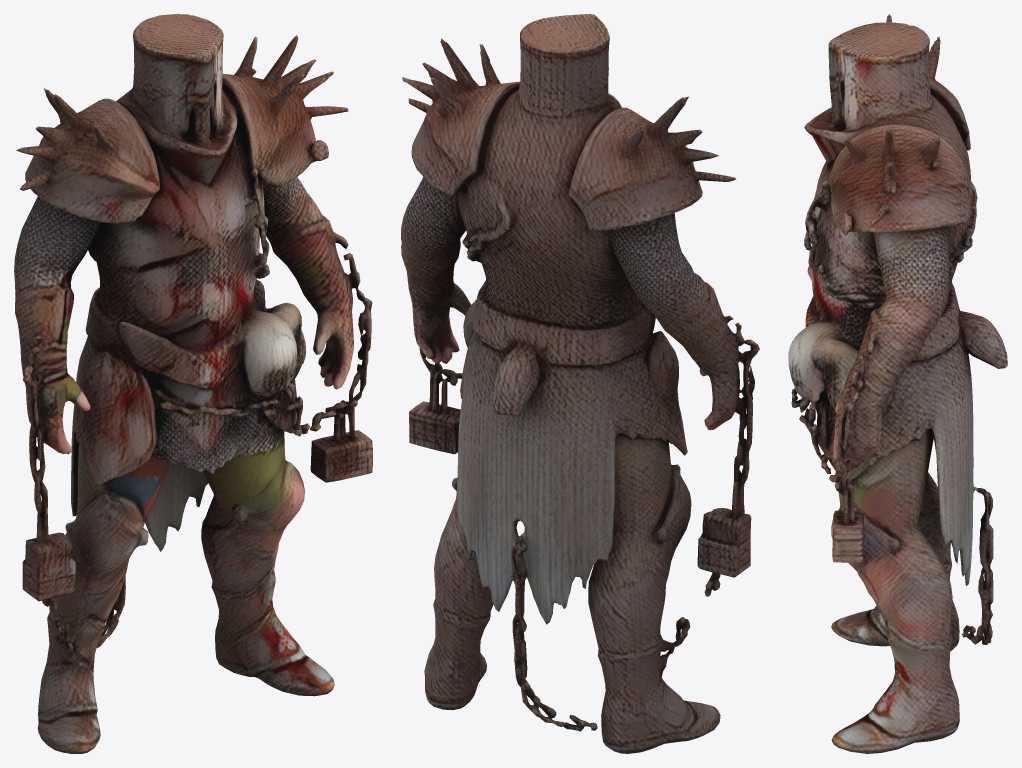
Rendered from 3d-headless-armored-warrior-with-chains-and-severed-heads.glb.
3 renders of one model, left to right at view 1: azimuth 30°, elevation 25°; view 2: azimuth 150°, elevation 25°; view 3: azimuth 270°, elevation 25°, orthographic. The views are drawn at different scales.
Parts seen in each view (by area): view 1: Mesh; view 2: Mesh; view 3: Mesh.
Boxes of the visible parts, x1=… form: Mesh: x1=14, y1=14, x2=372, y2=753; Mesh: x1=401, y1=14, x2=759, y2=753; Mesh: x1=788, y1=14, x2=1007, y2=753.
Size of the model in its own units: 1.03 by 1.91 by 0.581.
Materials: 1 (1 with a texture image).
